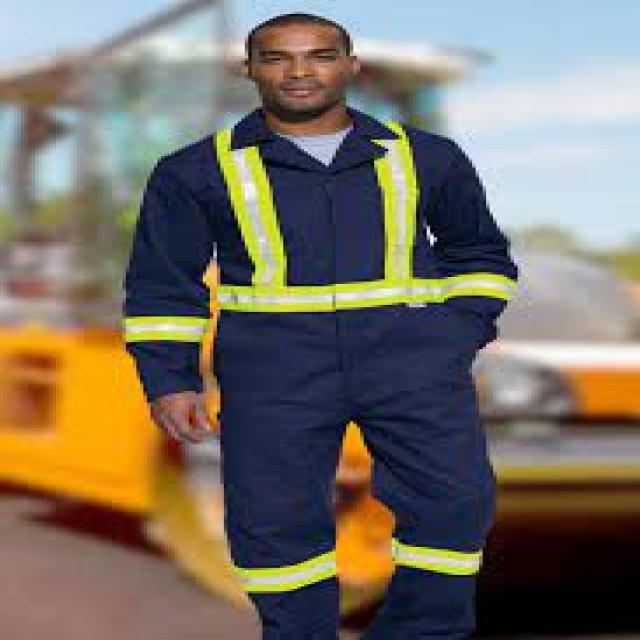vest: (125, 104, 517, 640)
